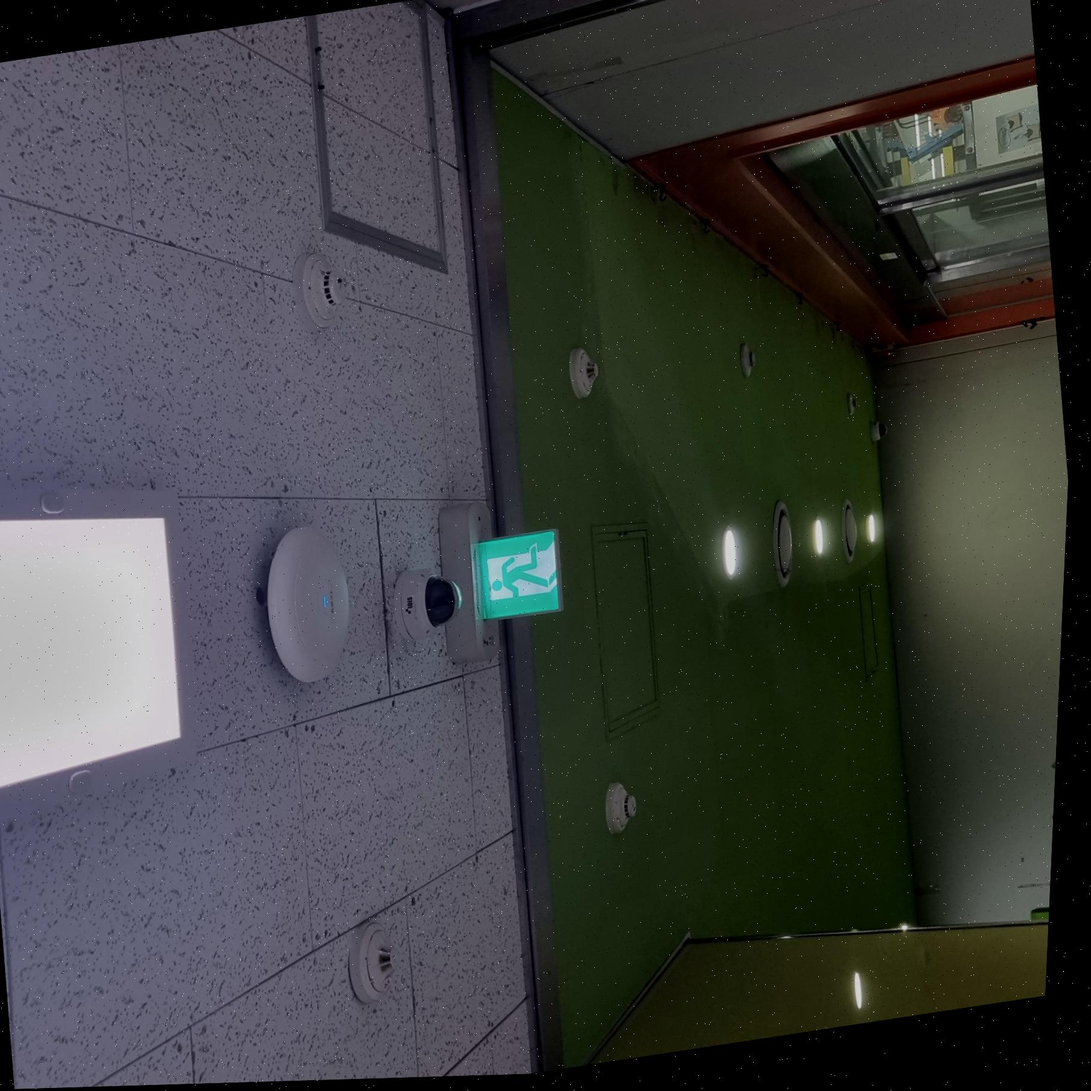emergency_exit: (472, 527, 563, 621)
